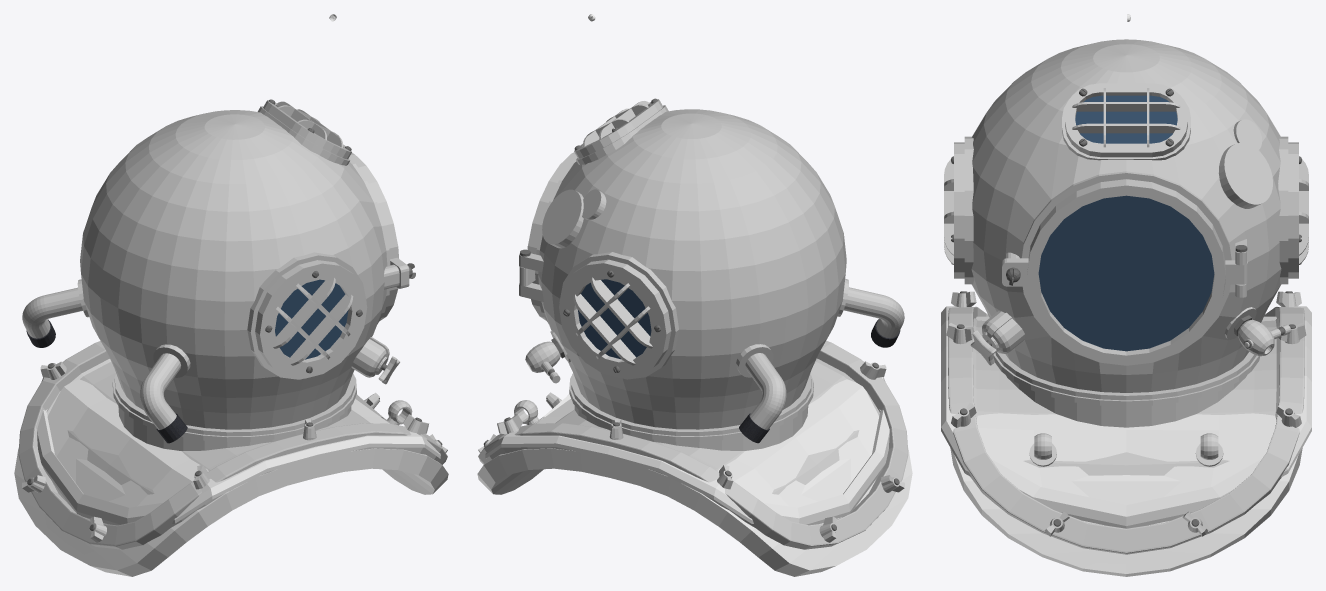
File: Underwater suit.fbx
3 views of the same model, side by side, from view 1: azimuth 30°, elevation 25°; view 2: azimuth 150°, elevation 25°; view 3: azimuth 270°, elevation 25° (orthographic). The views are drawn at different scales.
Parts seen in each view (by area): view 1: Helmet, Plane, Plane.001, Plane.003, Okienka boczne, Rurka, Okienko Górne, Plane.004, Śróby 2, Śróby 3; view 2: Helmet, Plane, Plane.001, Plane.003, Okienka boczne, Rurka, Okienko Górne, Coś, Cylinder.005, Śróby 2, Śróby 3; view 3: Helmet, Plane.001, Plane, Plane.003, Okienko Górne, Okienka boczne, Coś, Plane.004, Cylinder.005, Śróby 2, Coś na linę, Śróby 1 (+1 smaller).
Boxes of the visible parts, x1=… form: Helmet: x1=80, y1=110, x2=409, y2=450; Plane: x1=37, y1=361, x2=440, y2=525; Plane.001: x1=18, y1=341, x2=447, y2=549; Plane.003: x1=14, y1=447, x2=448, y2=576; Okienka boczne: x1=247, y1=252, x2=367, y2=379; Rurka: x1=22, y1=279, x2=190, y2=443; Okienko Górne: x1=257, y1=99, x2=351, y2=165; Plane.004: x1=351, y1=337, x2=399, y2=384; Śróby 2: x1=40, y1=361, x2=429, y2=489; Śróby 3: x1=22, y1=392, x2=447, y2=542; Helmet: x1=519, y1=109, x2=846, y2=450; Plane: x1=485, y1=361, x2=889, y2=525; Plane.001: x1=478, y1=340, x2=908, y2=549; Plane.003: x1=477, y1=447, x2=912, y2=576; Okienka boczne: x1=559, y1=252, x2=678, y2=379; Rurka: x1=736, y1=279, x2=904, y2=443; Okienko Górne: x1=574, y1=98, x2=668, y2=165; Coś: x1=542, y1=189, x2=606, y2=248; Cylinder.005: x1=525, y1=330, x2=570, y2=383; Śróby 2: x1=497, y1=361, x2=886, y2=489; Śróby 3: x1=478, y1=392, x2=904, y2=542; Helmet: x1=971, y1=39, x2=1281, y2=427; Plane.001: x1=948, y1=306, x2=1304, y2=554; Plane: x1=941, y1=306, x2=1311, y2=528; Plane.003: x1=950, y1=448, x2=1302, y2=576; Okienko Górne: x1=1062, y1=83, x2=1190, y2=160; Okienka boczne: x1=944, y1=136, x2=1308, y2=284; Coś: x1=1218, y1=119, x2=1272, y2=208; Plane.004: x1=970, y1=311, x2=1025, y2=365; Cylinder.005: x1=1224, y1=307, x2=1290, y2=356; Śróby 2: x1=951, y1=291, x2=1301, y2=427; Coś na linę: x1=1029, y1=433, x2=1223, y2=466; Śróby 1: x1=946, y1=323, x2=1306, y2=344.
Bounding box in the file's own units: 266 × 341 × 216.
